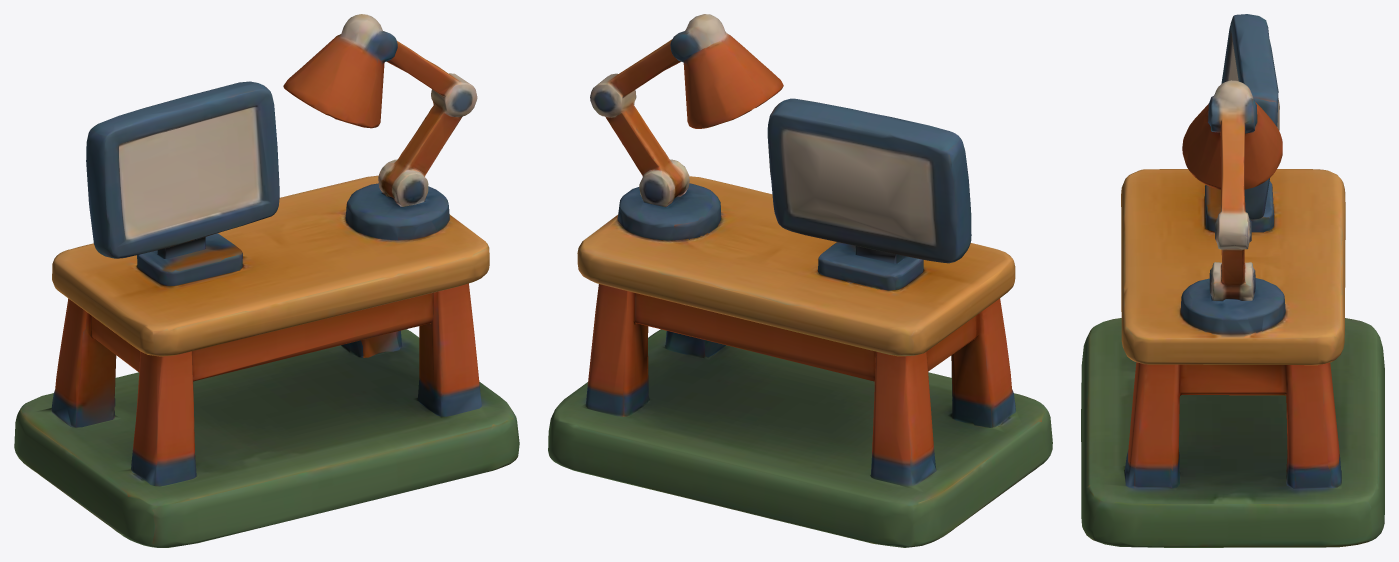
Rendered from startup-desk.glb.
The picture shows the model from 3 angles, left to right: view 1: azimuth 30°, elevation 25°; view 2: azimuth 150°, elevation 25°; view 3: azimuth 270°, elevation 25°; orthographic projection.
Parts seen in each view (by area): view 1: textured_mesh.obj; view 2: textured_mesh.obj; view 3: textured_mesh.obj.
Boxes of the visible parts, x1,y1,x2,y2 form: textured_mesh.obj: (14, 14, 519, 547); textured_mesh.obj: (548, 14, 1052, 547); textured_mesh.obj: (1081, 14, 1384, 547).
Bounding box in the file's own units: 0.9983 × 0.9988 × 0.6562.
Materials: 1 (1 with a texture image).
